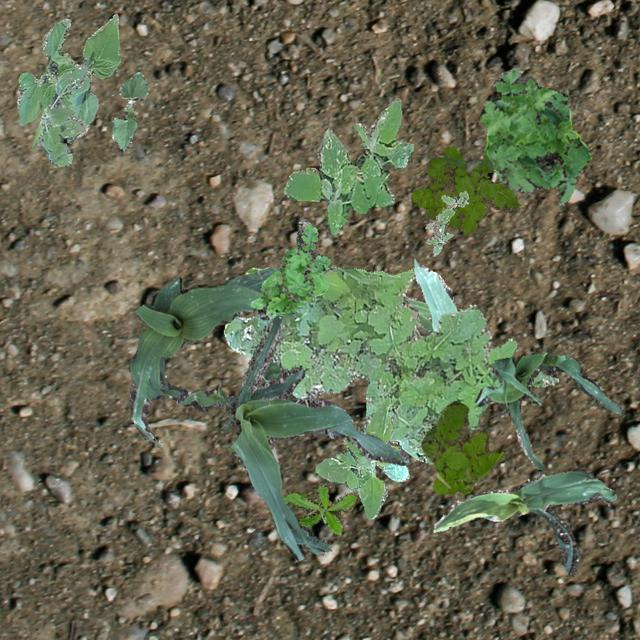crop: (175, 314, 408, 560), (128, 266, 292, 446), (432, 470, 616, 574), (474, 350, 624, 470), (16, 12, 120, 142), (314, 396, 408, 518), (406, 258, 456, 330), (110, 70, 148, 150), (262, 354, 288, 381)
weed: (222, 264, 558, 463), (282, 96, 412, 234), (480, 66, 590, 205), (410, 144, 520, 232), (250, 218, 330, 318), (420, 399, 502, 494), (31, 66, 88, 166), (282, 484, 356, 534), (424, 190, 468, 253)
